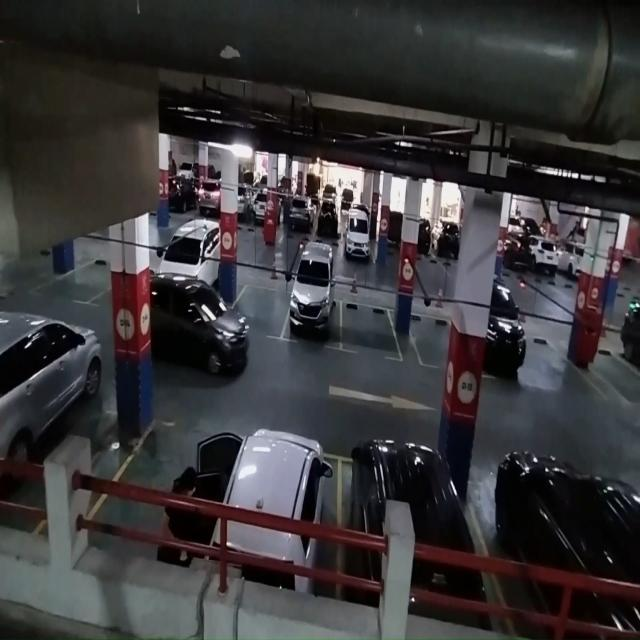empty: (229, 283, 292, 341), (340, 299, 398, 361), (410, 310, 452, 368)
occupied: (221, 424, 340, 532), (288, 262, 340, 351)
